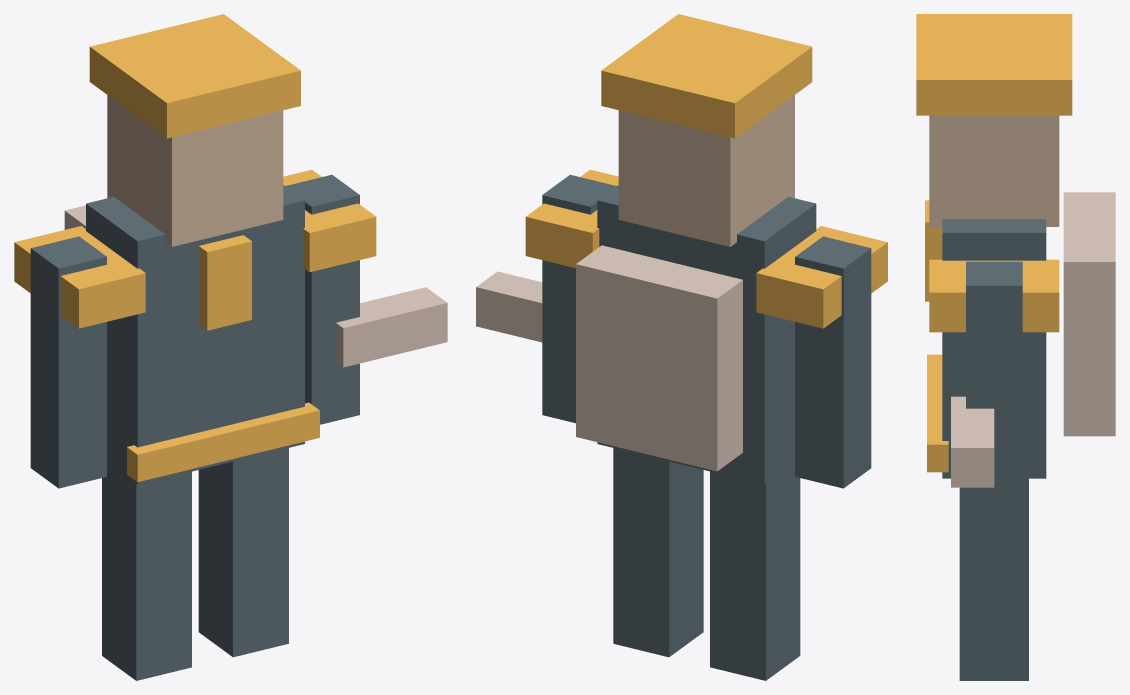
File: 11_selka_latchward_runner_of_freight.glb
3 renders of one model, left to right at view 1: azimuth 30°, elevation 25°; view 2: azimuth 150°, elevation 25°; view 3: azimuth 270°, elevation 25°, orthographic.
Visible parts, largest first — view 1: Selka Latchward, Runner of Freight; view 2: Selka Latchward, Runner of Freight; view 3: Selka Latchward, Runner of Freight.
Boxes of the visible parts, box(x1,y1,x2,y2) form: Selka Latchward, Runner of Freight: box(14, 14, 447, 680); Selka Latchward, Runner of Freight: box(476, 14, 887, 680); Selka Latchward, Runner of Freight: box(916, 14, 1115, 680).
Bounding box in the file's own units: 1.02 × 1.51 × 0.4587.
